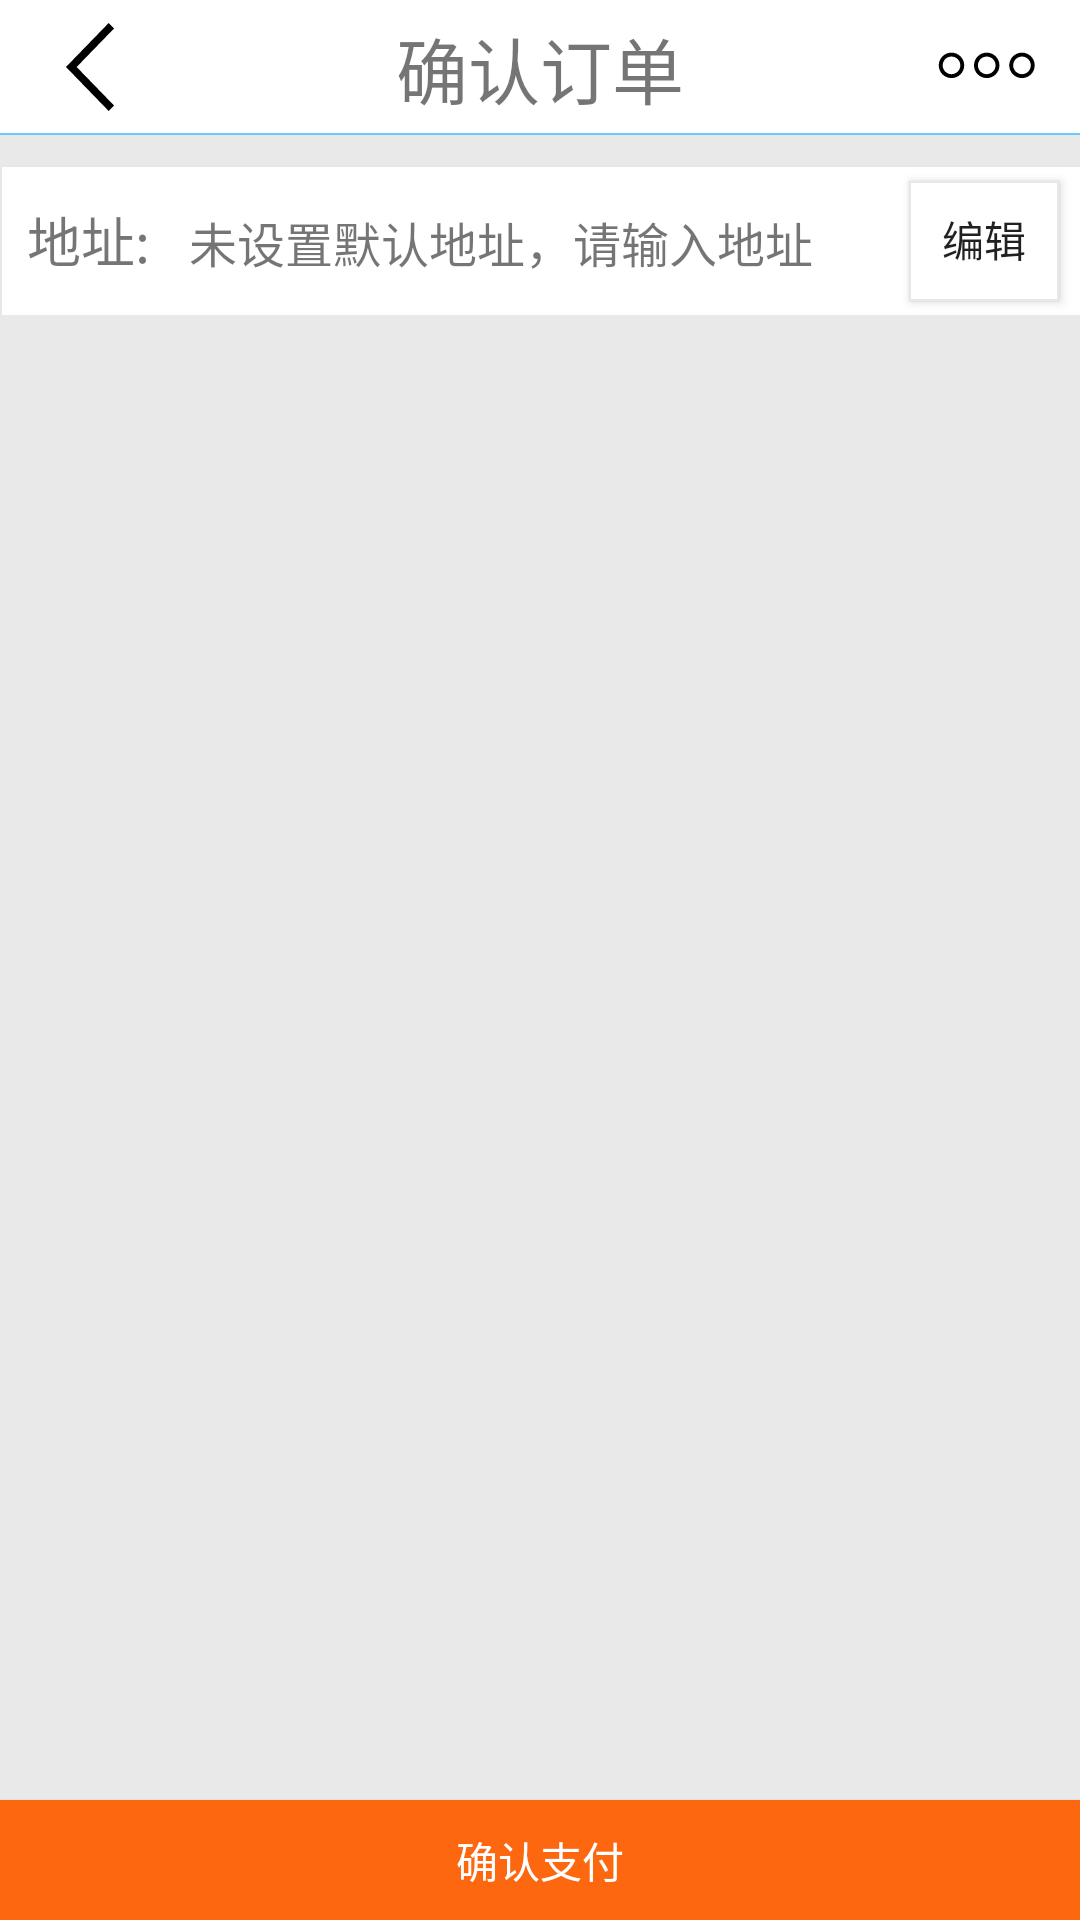

Named icons in this screenshot (1080px×1920px) and their bounding boxes, (x1, y1, x2, y2):
back: (66, 23, 114, 111)
more: (938, 52, 1035, 78)
